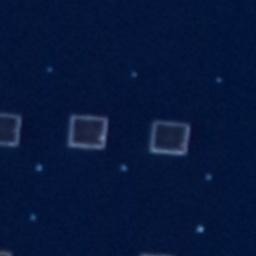square_cover: (146, 115, 197, 161), (66, 110, 114, 154), (1, 110, 28, 151)
